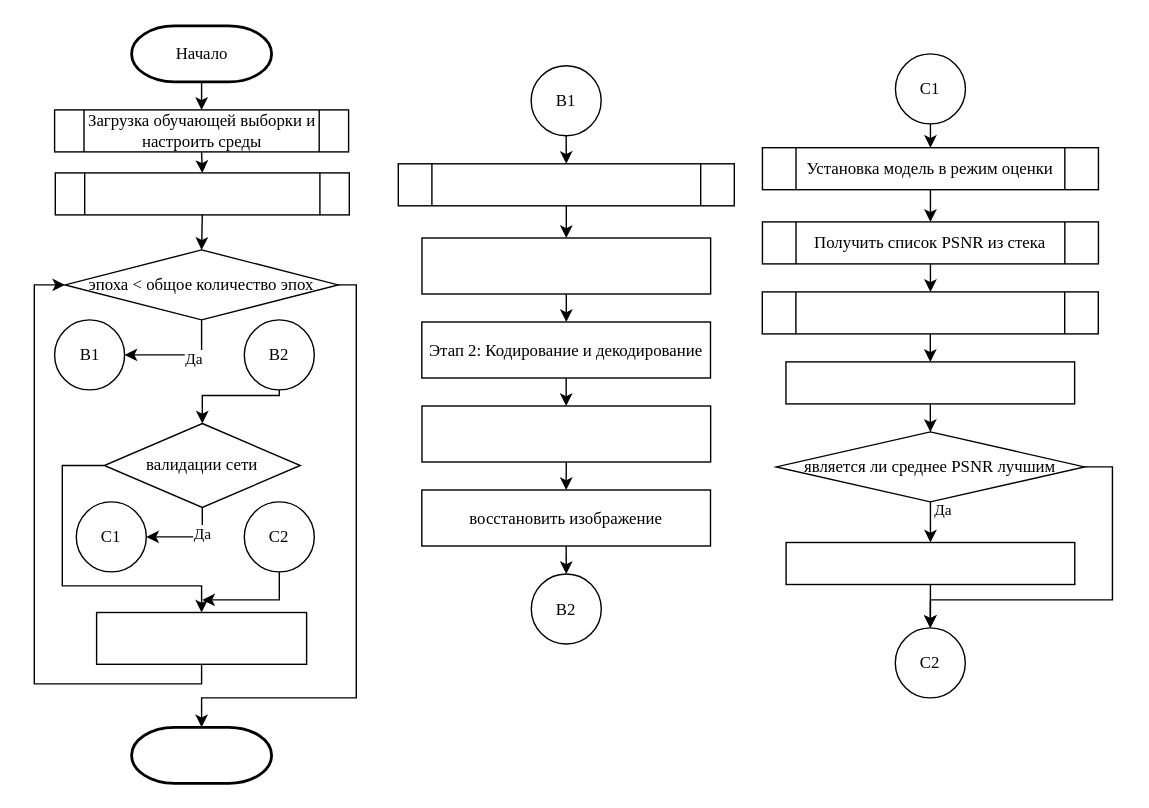
Image size: 1149x808. Some labels were removed from this diagram. The centre of each missing label's shape, as x and y in pixels:
best_epoch, best_psnr = 0, 0.0: point (201, 193)
Вычислить PSNR: point (930, 382)
загрузить цель и исходное изображение: point (929, 312)
Конец: point (201, 754)
Обновить лучшего PSNR и эпохи: point (930, 562)
разделить изображение на фрагменты: point (565, 184)
Сохранить параметры сети за текущую эпоху: point (201, 637)
Этап 1: Кодирование и декодирование: point (566, 265)
Этап 3: подсеть исходного разрешения: point (566, 433)
